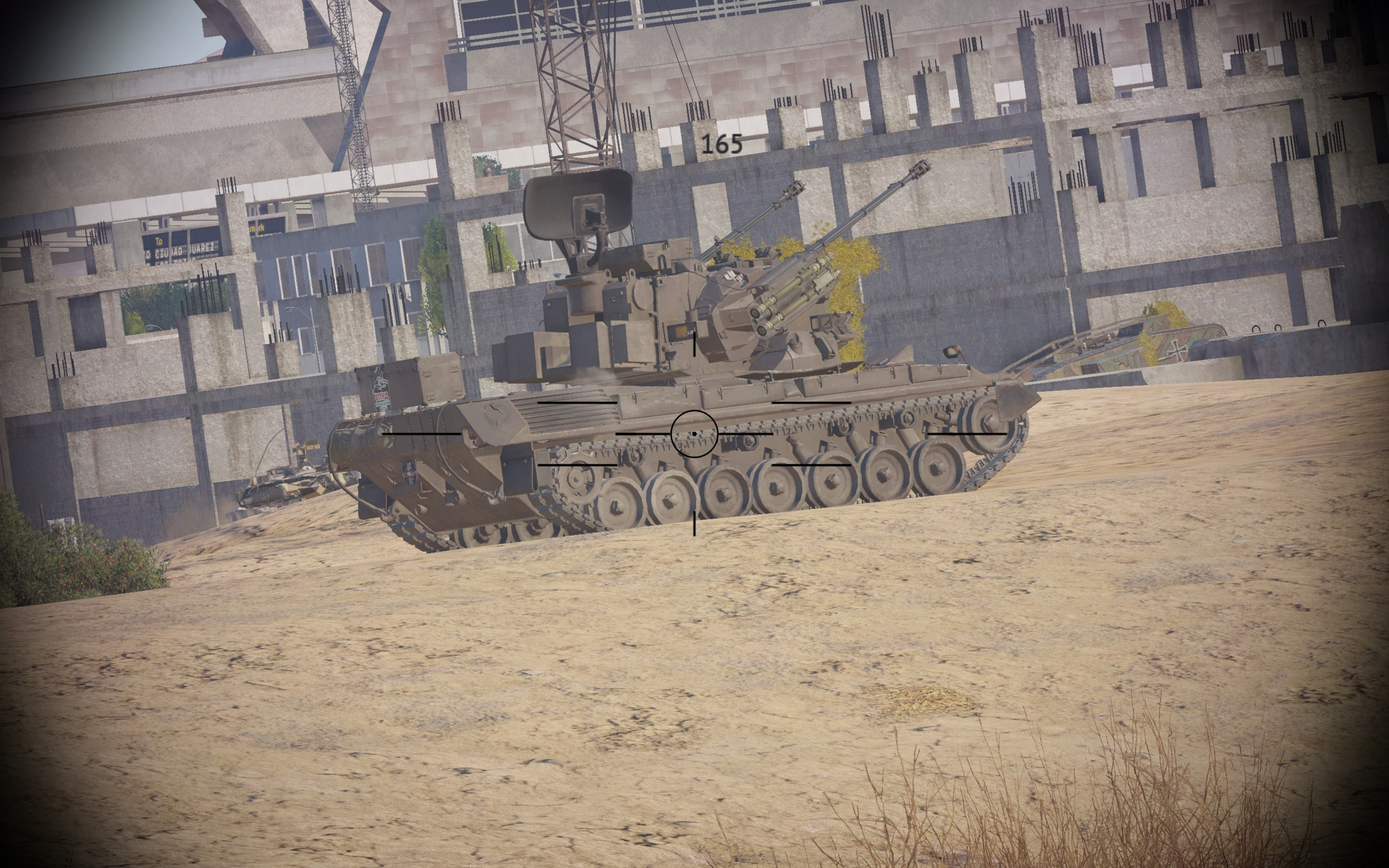spaa_gepard: (324, 159, 1042, 556)
